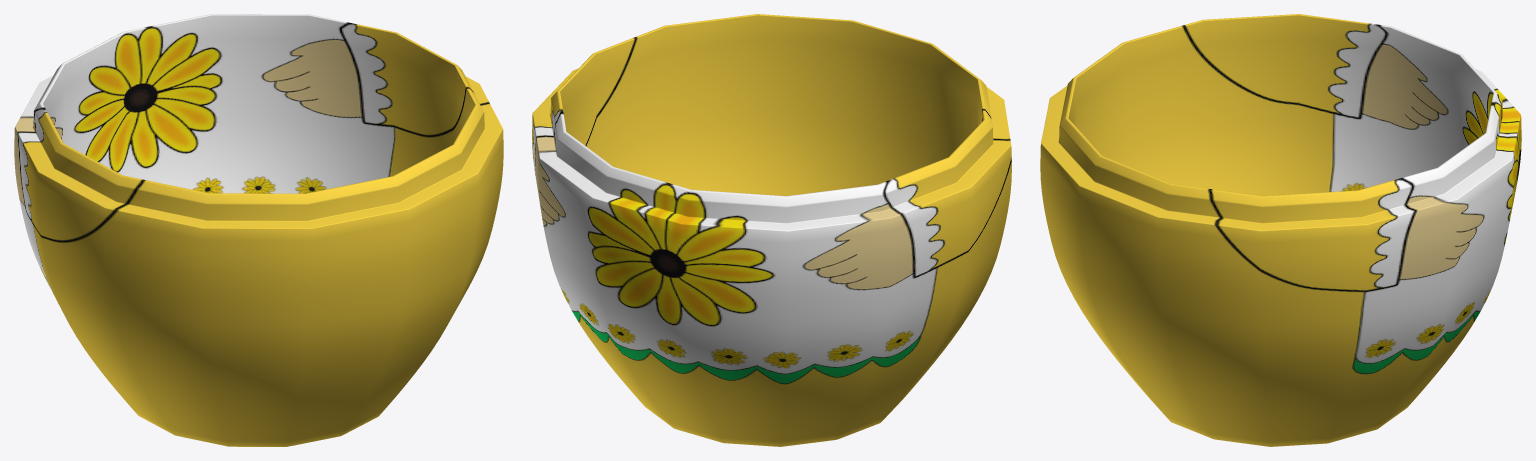
The model's file is mdl_hub_matryoshka_base2.gltf.
3 views of the same model, side by side, from view 1: azimuth 30°, elevation 25°; view 2: azimuth 150°, elevation 25°; view 3: azimuth 270°, elevation 25° (orthographic).
Visible parts, largest first — view 1: Base_2; view 2: Base_2; view 3: Base_2.
Boxes of the visible parts, x1,y1,x2,y2 form: Base_2: [14, 14, 503, 446]; Base_2: [532, 14, 1011, 446]; Base_2: [1040, 14, 1521, 446].
Bounding box in the file's own units: 0.1284 × 0.0843 × 0.1275.
Materials: 1 (1 with a texture image).
